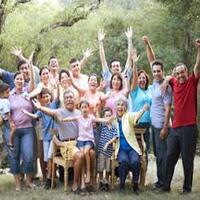person: (34, 84, 60, 115), (147, 60, 171, 93), (173, 59, 200, 88), (65, 50, 87, 85), (113, 99, 139, 124), (132, 65, 151, 94), (76, 96, 96, 123), (8, 69, 28, 95), (82, 71, 104, 93), (108, 71, 130, 93), (43, 58, 64, 77)
